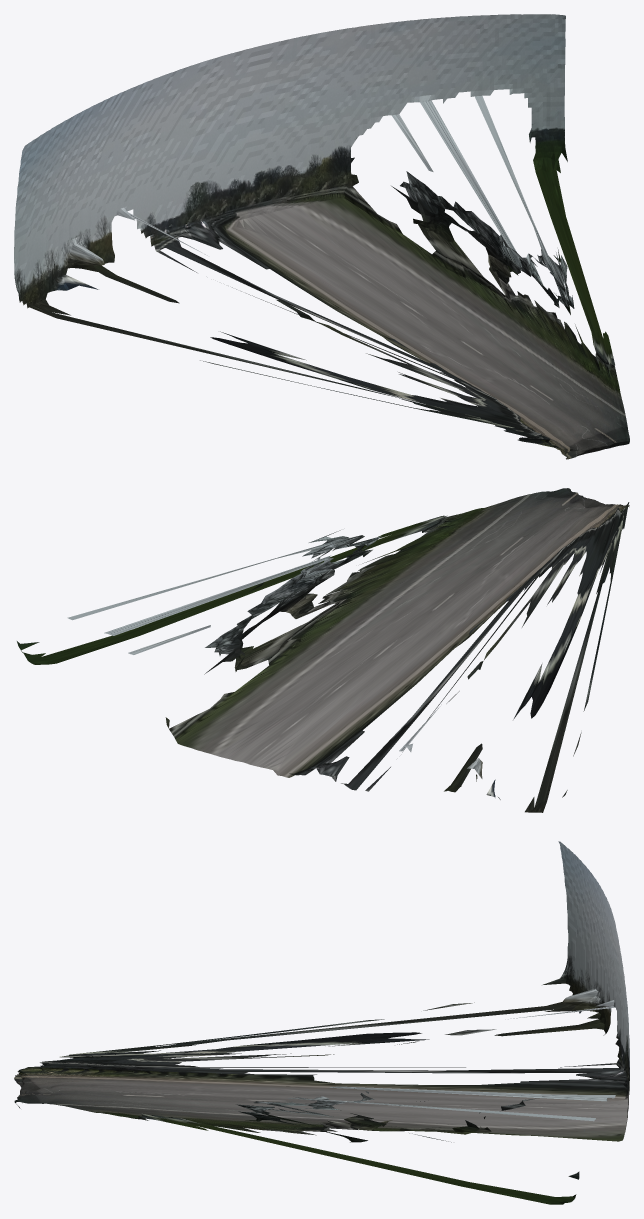
3 views of the same model, one above another, from view 1: azimuth 30°, elevation 25°; view 2: azimuth 150°, elevation 25°; view 3: azimuth 270°, elevation 25° (orthographic). The views are drawn at different scales.
Parts seen in each view (by area): view 1: defaultobject; view 2: defaultobject; view 3: defaultobject.
Boxes of the visible parts, x1,y1,x2,y2 form: defaultobject: [14, 14, 629, 459]; defaultobject: [17, 488, 629, 812]; defaultobject: [14, 841, 629, 1204].
Bounding box in the file's own units: 41.16 × 13.27 × 44.57.
Materials: 1 (1 with a texture image).
